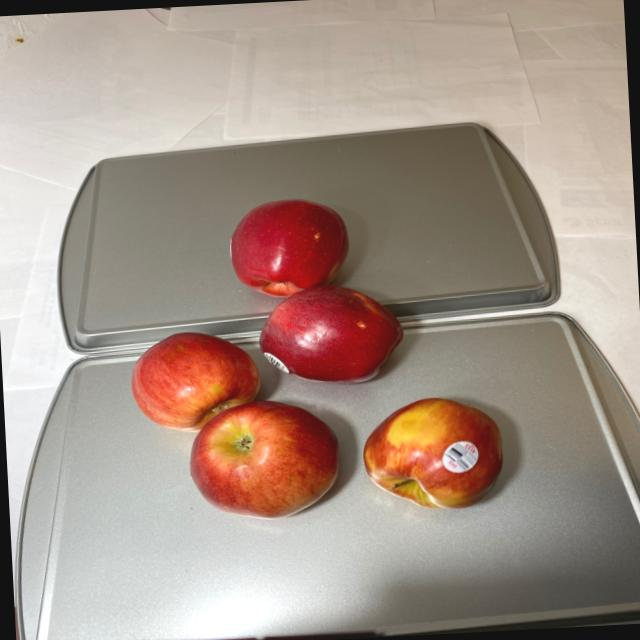apple: (123, 187, 507, 523)
